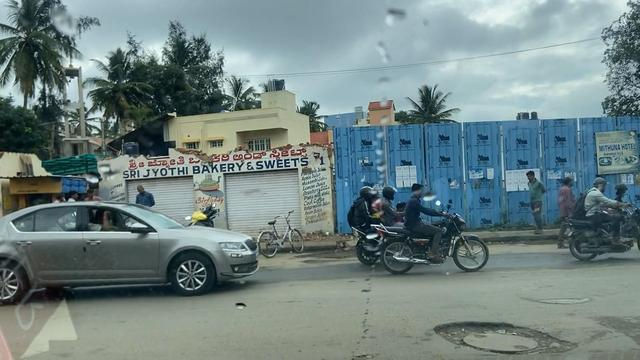LMV: (0, 199, 268, 291), (353, 186, 470, 282), (567, 180, 640, 257)
RoadDamages: (434, 313, 574, 360), (598, 296, 640, 360)
